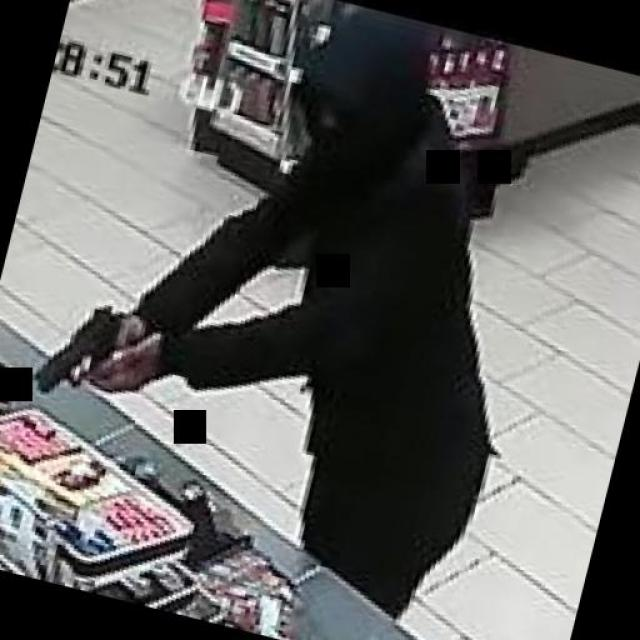gun: (21, 288, 154, 412)
